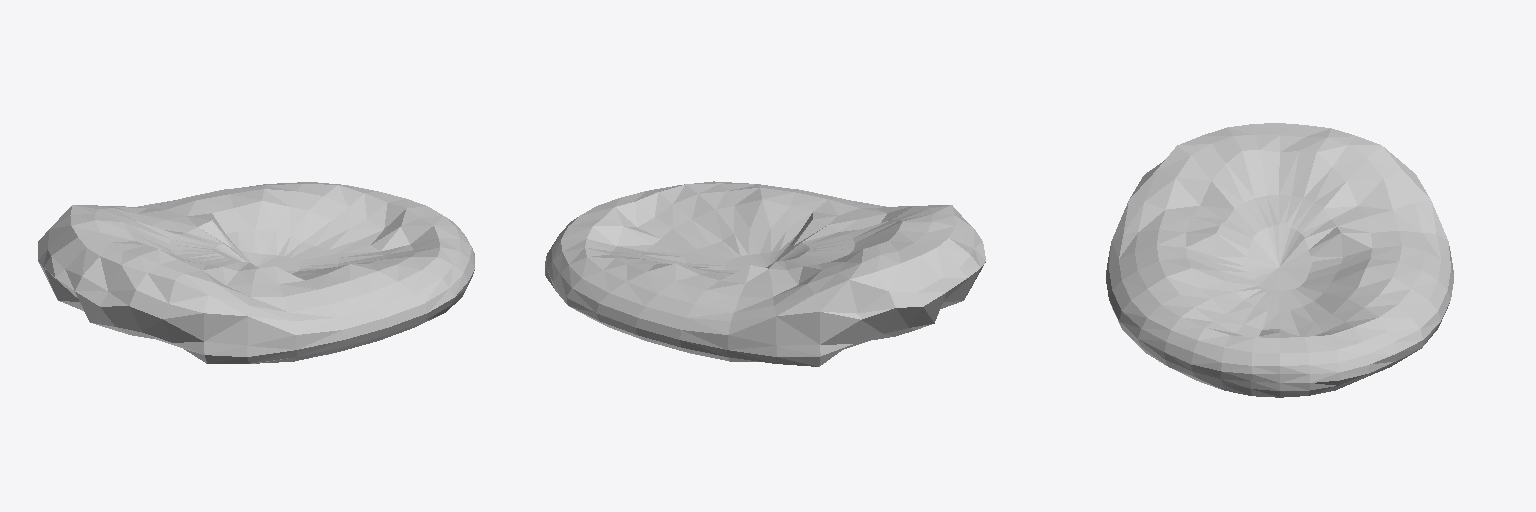
The model's file is lick1.obj.
3 views of the same model, side by side, from view 1: azimuth 30°, elevation 25°; view 2: azimuth 150°, elevation 25°; view 3: azimuth 270°, elevation 25° (orthographic).
Parts seen in each view (by area): view 1: Sphere_Sphere.002; view 2: Sphere_Sphere.002; view 3: Sphere_Sphere.002.
Boxes of the visible parts, box(x1,y1,x2,y2) form: Sphere_Sphere.002: box(38, 182, 474, 363); Sphere_Sphere.002: box(545, 181, 985, 366); Sphere_Sphere.002: box(1106, 123, 1453, 397).
Size of the model in its own units: 2.96 by 0.7304 by 2.23.